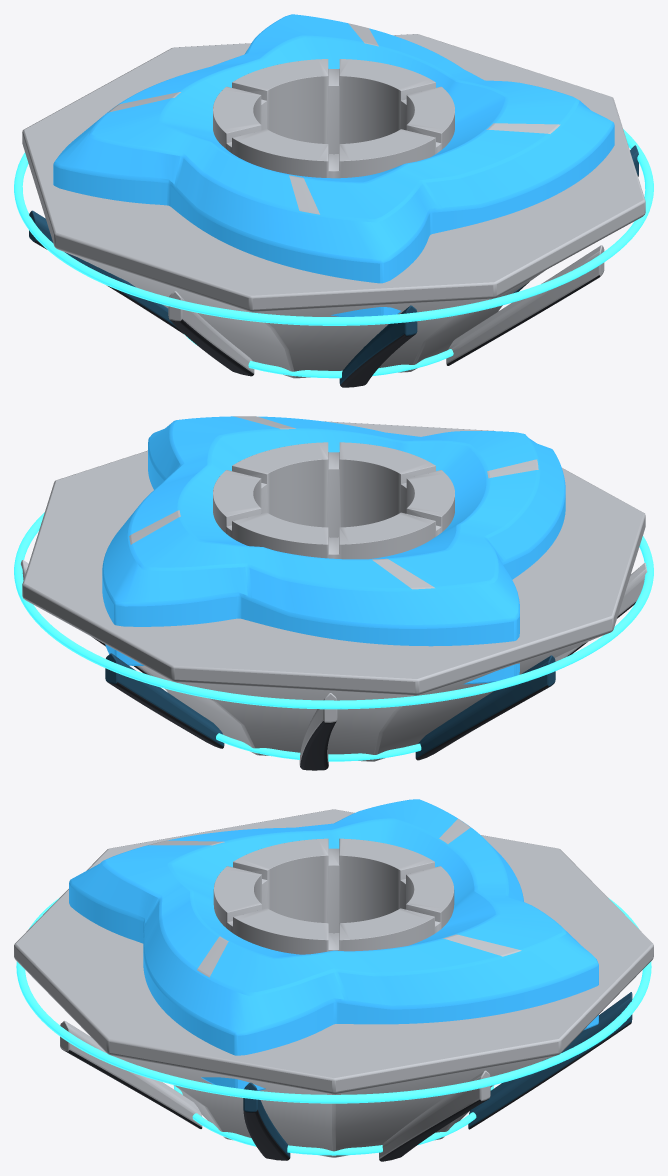
File: kelch.glb
The picture shows the model from 3 angles, top to bottom: view 1: azimuth 30°, elevation 25°; view 2: azimuth 150°, elevation 25°; view 3: azimuth 270°, elevation 25°; orthographic projection.
Parts seen in each view (by area): view 1: Ratsche.005, Kelch, Kern.005, Kelchleuchte, Stuetzrippe.006, Stuetzrippe.004, Stuetzrippe.005, Fussleuchte, Stuetzrippe.003; view 2: Ratsche.005, Kelch, Kern.005, Kelchleuchte, Stuetzrippe.003, Stuetzrippe.001, Stuetzrippe.002, Fussleuchte, Stuetzrippe.004; view 3: Ratsche.005, Kelch, Kern.005, Kelchleuchte, Stuetzrippe.001, Stuetzrippe, Stuetzrippe.006, Stuetzrippe.007, Fussleuchte.
Boxes of the visible parts, x1,y1,x2,y2 form: Ratsche.005: (53, 14, 614, 316); Kelch: (22, 34, 645, 378); Kern.005: (213, 59, 454, 178); Kelchleuchte: (14, 129, 653, 325); Stuetzrippe.006: (446, 245, 604, 365); Stuetzrippe.004: (168, 291, 254, 376); Stuetzrippe.005: (339, 305, 417, 387); Fussleuchte: (184, 334, 453, 378); Stuetzrippe.003: (29, 210, 183, 333); Ratsche.005: (102, 416, 565, 684); Kelch: (22, 421, 645, 761); Kern.005: (213, 442, 454, 559); Kelchleuchte: (14, 512, 653, 709); Stuetzrippe.003: (415, 655, 555, 760); Stuetzrippe.001: (105, 653, 224, 748); Stuetzrippe.002: (299, 693, 337, 770); Fussleuchte: (216, 733, 421, 761); Stuetzrippe.004: (555, 563, 647, 661); Ratsche.005: (69, 799, 598, 1090); Kelch: (14, 809, 653, 1157); Kern.005: (213, 838, 454, 954); Kelchleuchte: (16, 898, 651, 1103); Stuetzrippe.001: (468, 992, 632, 1129); Stuetzrippe: (379, 1070, 490, 1161); Stuetzrippe.006: (60, 1020, 202, 1128); Stuetzrippe.007: (243, 1082, 290, 1160); Fussleuchte: (173, 1085, 494, 1155).
Size of the model in its own units: 0.3515 by 0.1291 by 0.3515.
